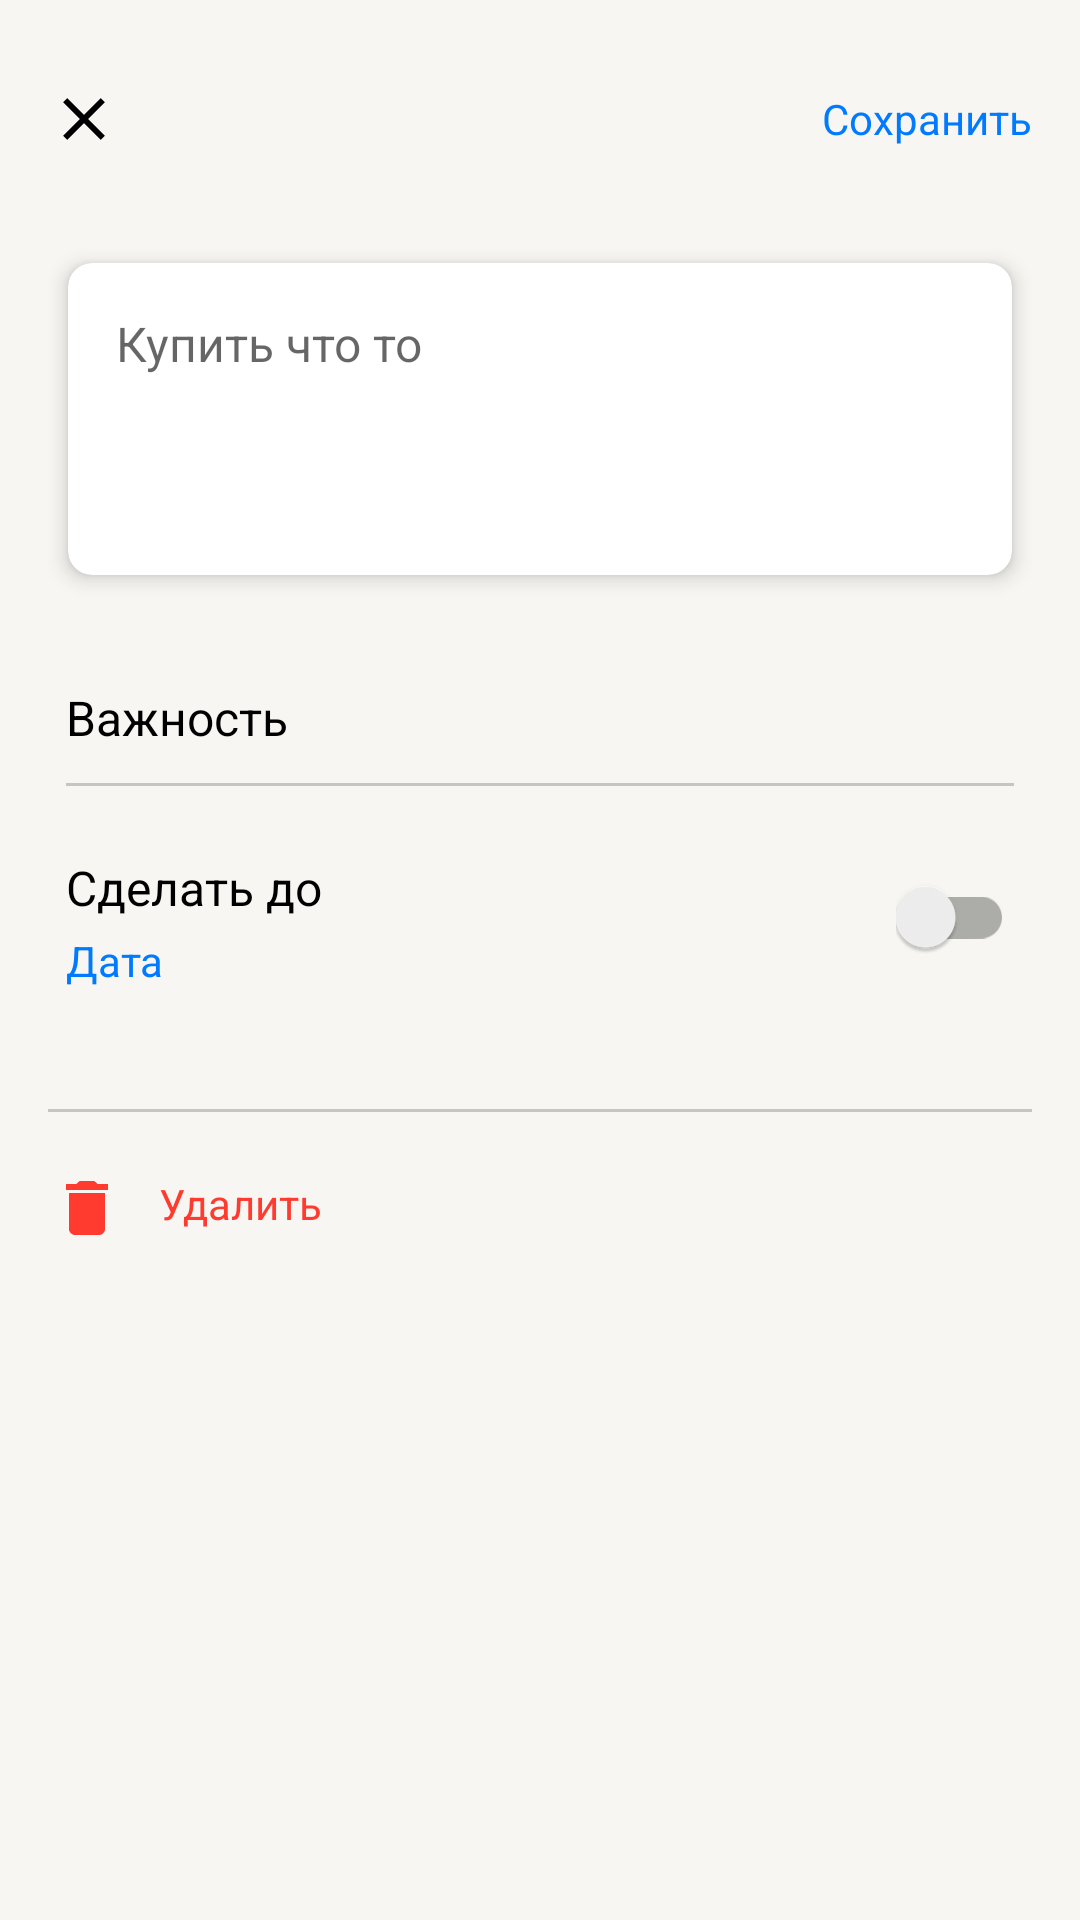

Point at icon controls on the screen. Image size 1080*1920, points as (x=x, y=y).
cancel inon: (x=84, y=119)
trash: (x=87, y=1208)
